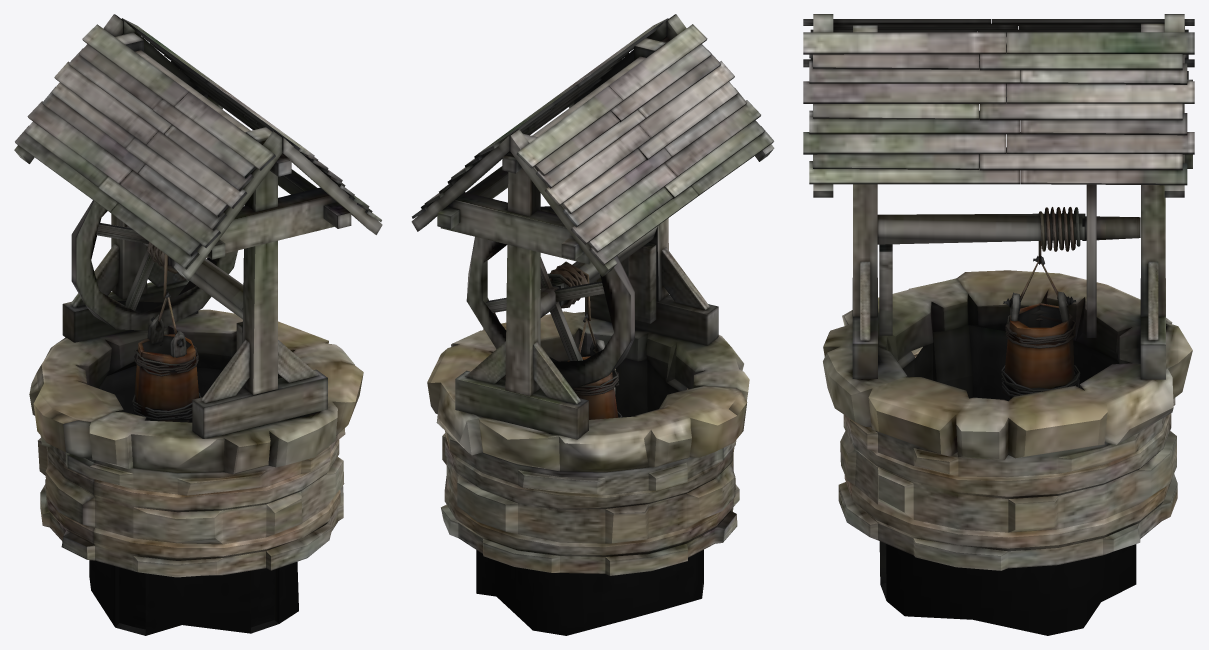
File: well.glb
3 views of the same model, side by side, from view 1: azimuth 30°, elevation 25°; view 2: azimuth 150°, elevation 25°; view 3: azimuth 270°, elevation 25° (orthographic). The views are drawn at different scales.
Parts seen in each view (by area): view 1: blinn4; view 2: blinn4; view 3: blinn4.
Part boxes in pixels (left/top/right/bottom): blinn4: left=14, top=14, right=382, bottom=635; blinn4: left=411, top=14, right=774, bottom=635; blinn4: left=803, top=14, right=1194, bottom=635.
Size of the model in its own units: 717 by 1203 by 748.
1 material, 1 textured.
